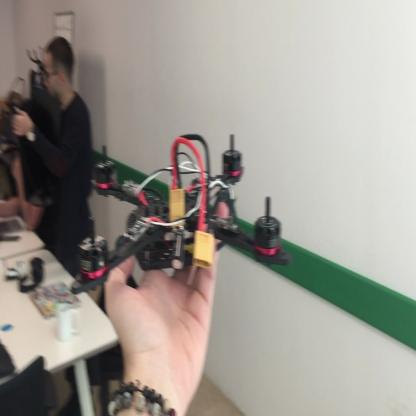drone: (72, 131, 294, 295)
